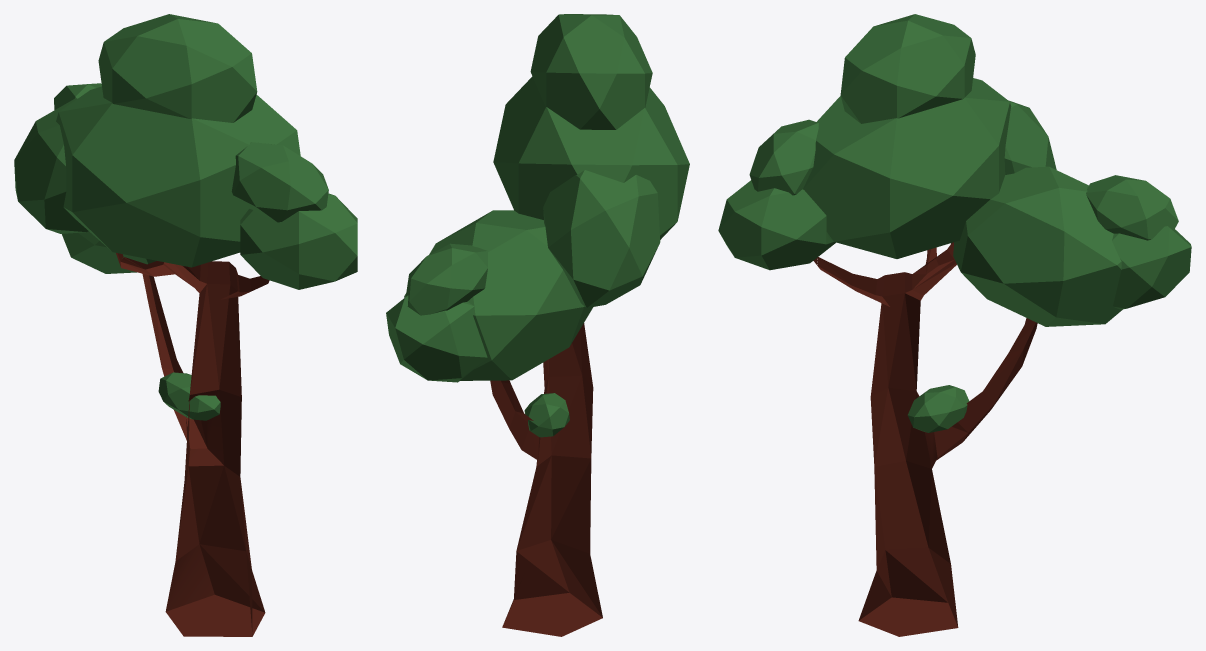
The model's file is Tree1.fbx.
The picture shows the model from 3 angles, left to right: view 1: azimuth 30°, elevation 25°; view 2: azimuth 150°, elevation 25°; view 3: azimuth 270°, elevation 25°; orthographic projection. The views are drawn at different scales.
Parts seen in each view (by area): view 1: Plane003; view 2: Plane003; view 3: Plane003.
Boxes of the visible parts, x1,y1,x2,y2 form: Plane003: (14, 14, 357, 636); Plane003: (386, 14, 689, 636); Plane003: (718, 14, 1191, 636).
Bounding box in the file's own units: 1.22 × 3.43 × 2.54.
